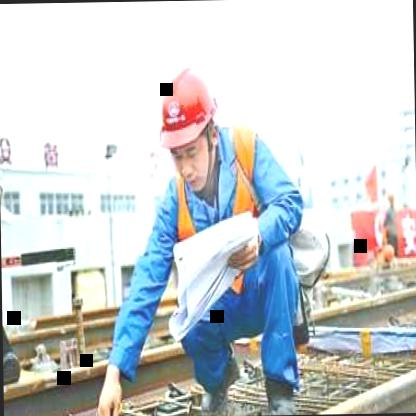helmet: (150, 49, 228, 196)
